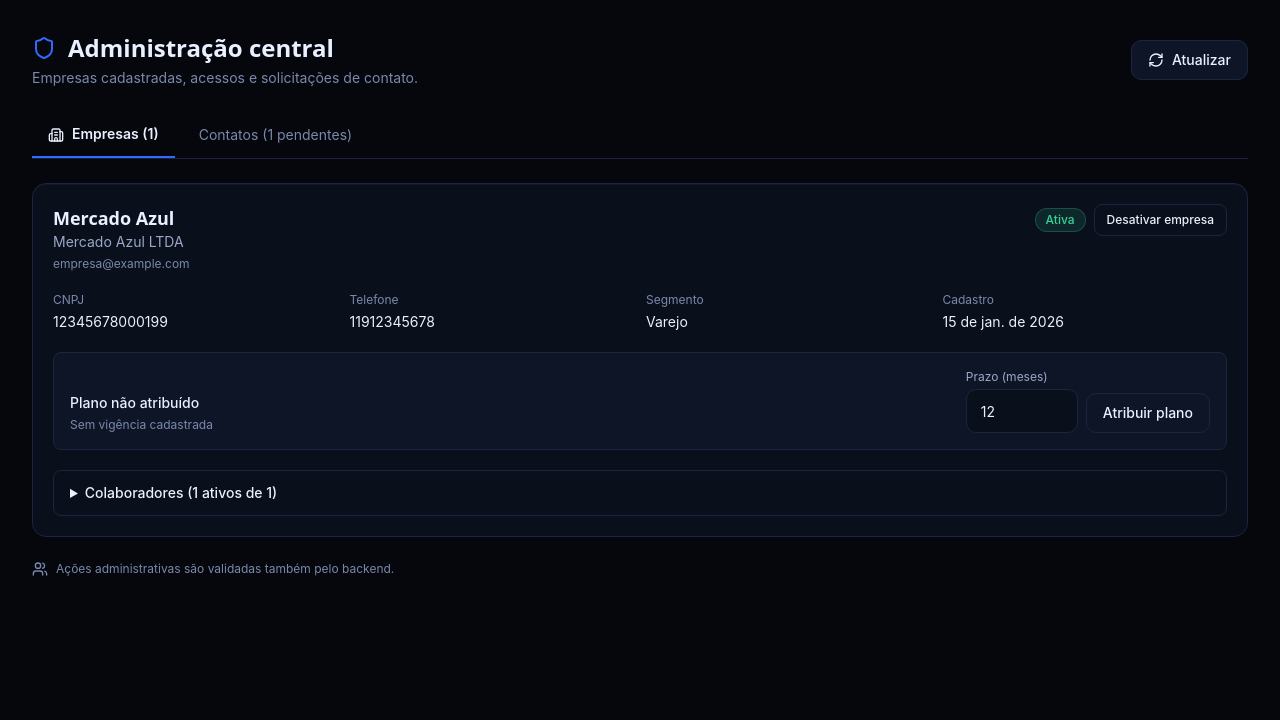
central administration flow › loads companies and contacts and updates statuses through protected routes
Expected: the heading "Mercado Azul" is shown, left=53, top=204, right=190, bottom=232
Step 1. Click the button "Desativar empresa" → (1160, 220), box left=1094, top=204, right=1227, bottom=236
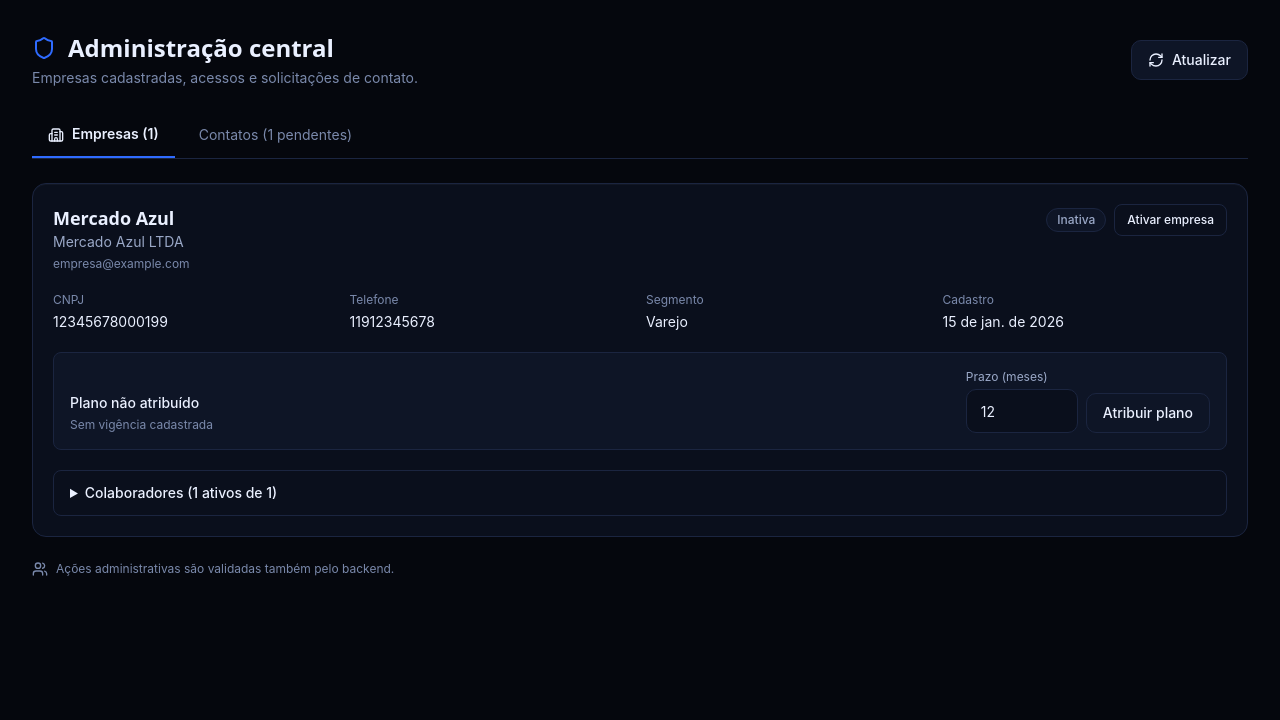
Step 2. Click the button "Contatos (1 pendentes)" → (275, 135), box left=183, top=112, right=368, bottom=158
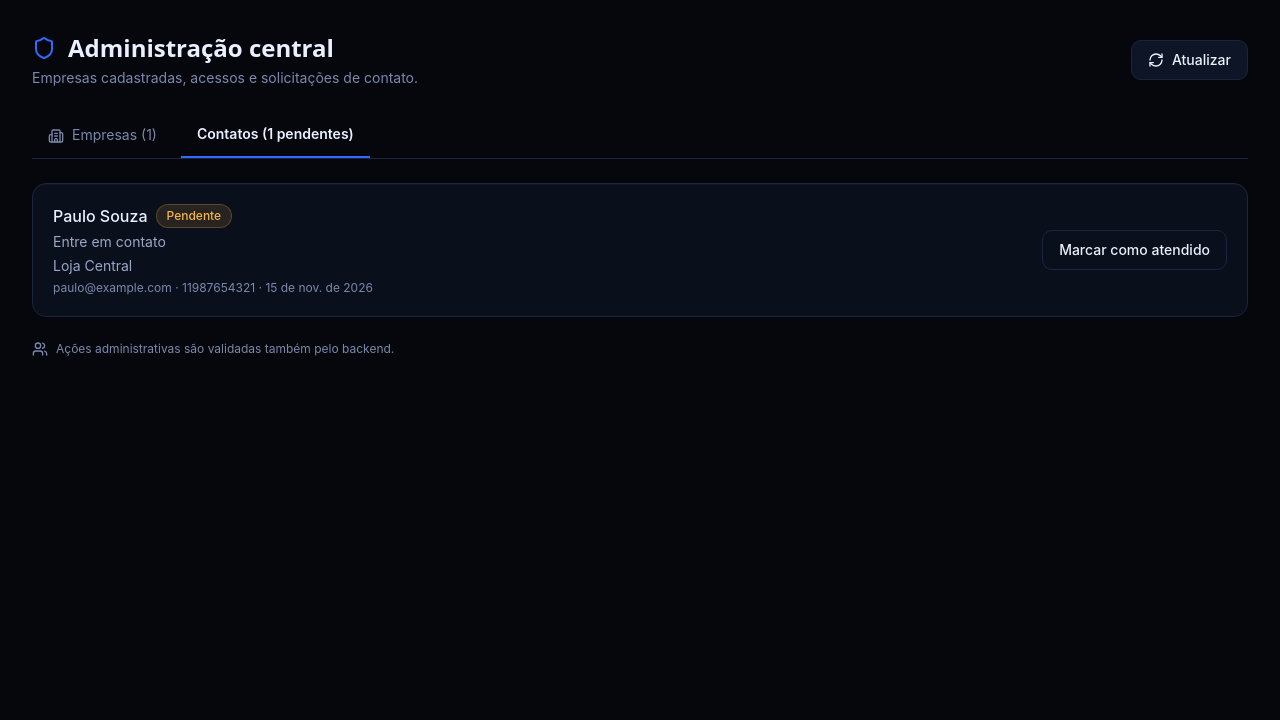
Expected: the heading "Paulo Souza" is shown, left=53, top=204, right=148, bottom=228
Step 3. Click the button "Marcar como atendido" → (1135, 250), box left=1042, top=230, right=1227, bottom=270
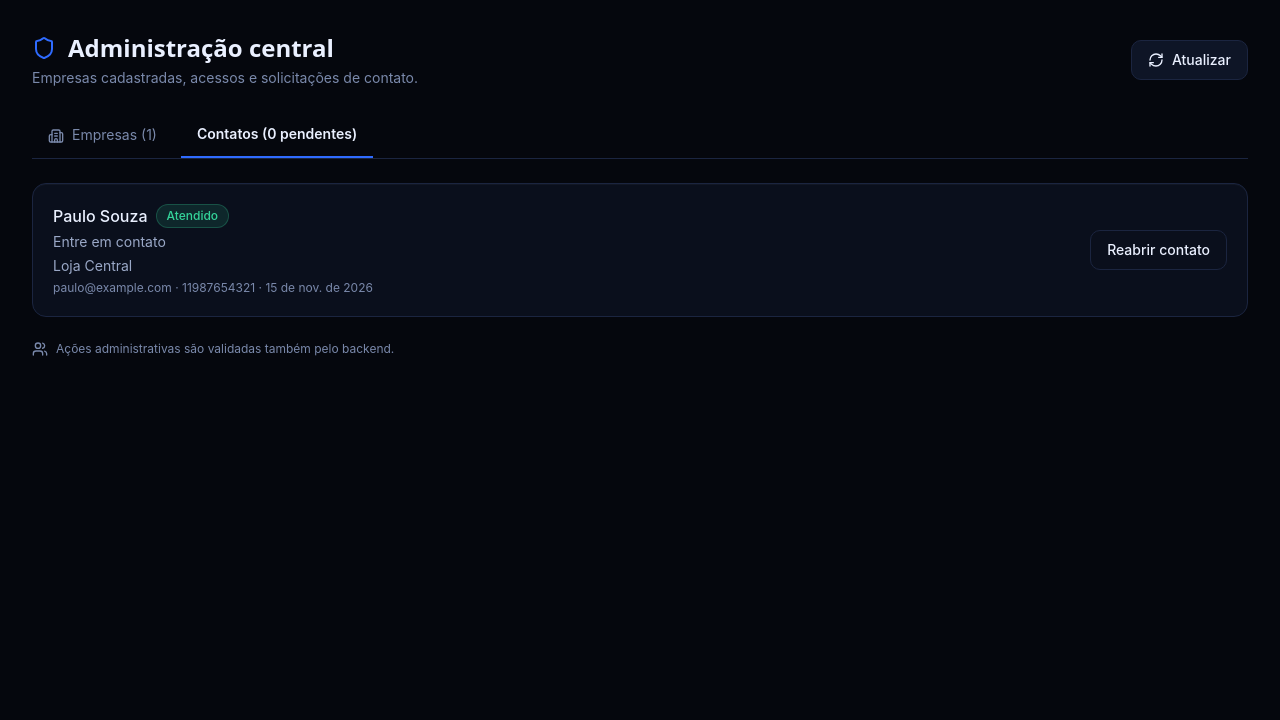
Expected: the text "Atendido" is shown, left=156, top=204, right=229, bottom=228
